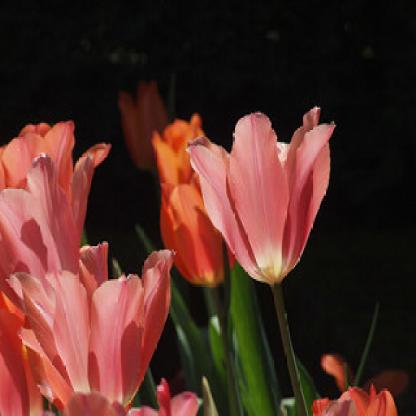TULIP: (4, 98, 169, 407), (163, 103, 339, 294)
